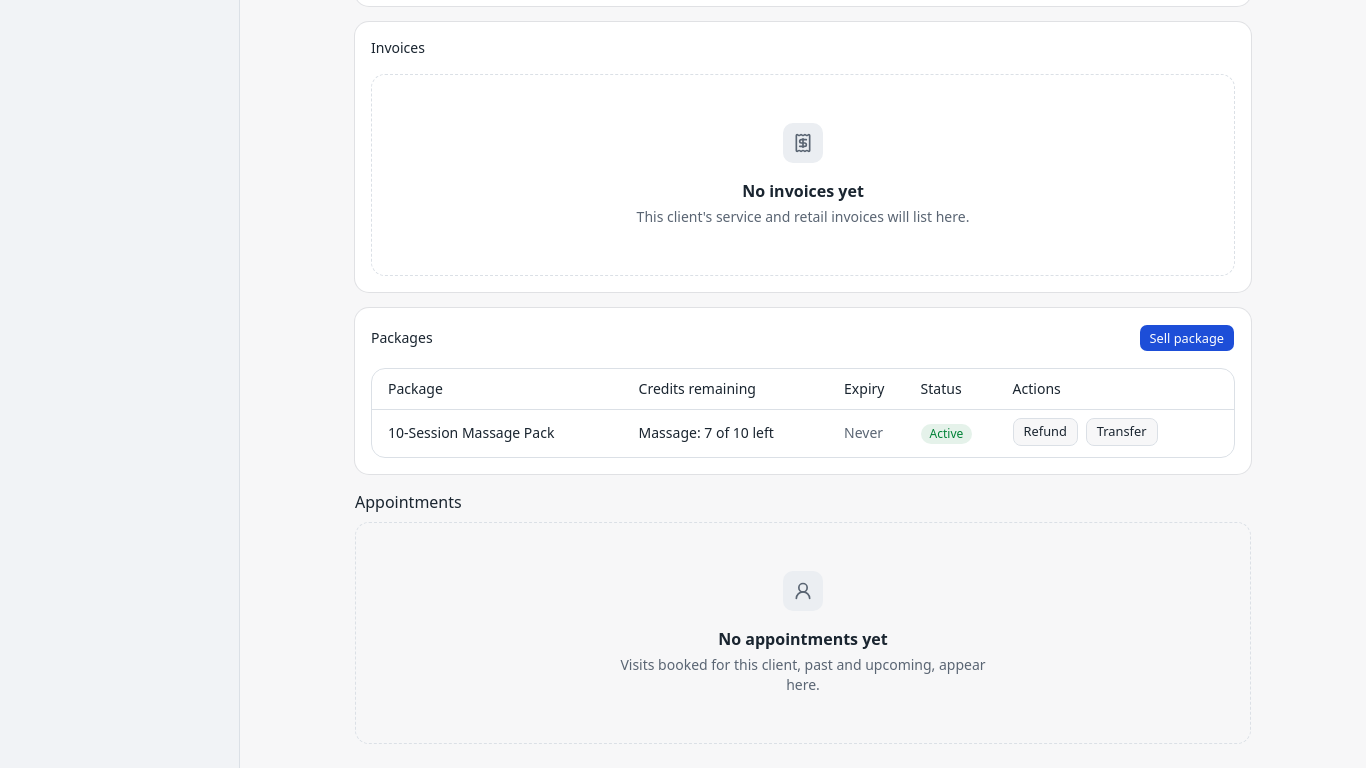
the reason is required before Transfer can submit
(page scrolled)
Check: the table named "Packages" is shown, box [372,369,1234,457]
Click the button "Transfer" at (1122, 432), box [1086,418,1158,446]
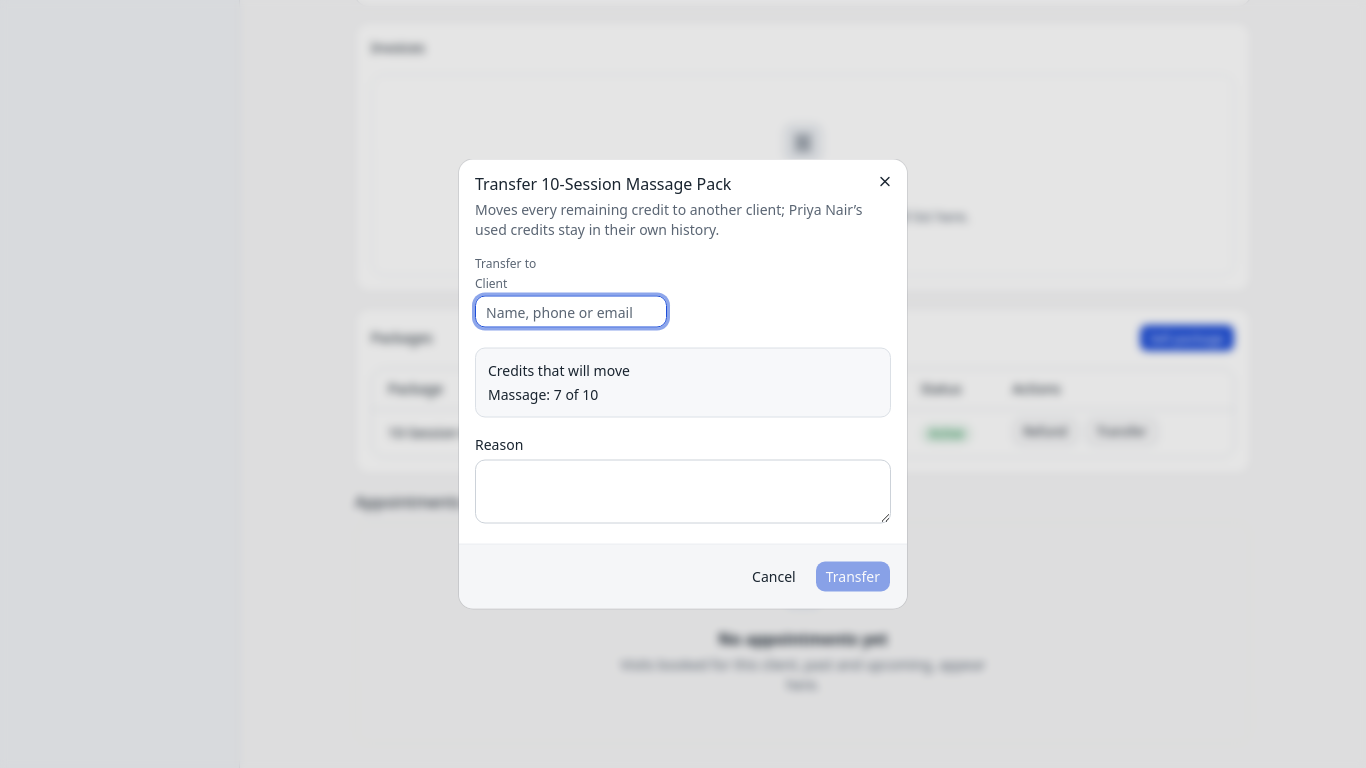
Type "Sam" into the field labelled "Client" at (571, 312), box [475,296,667,328]
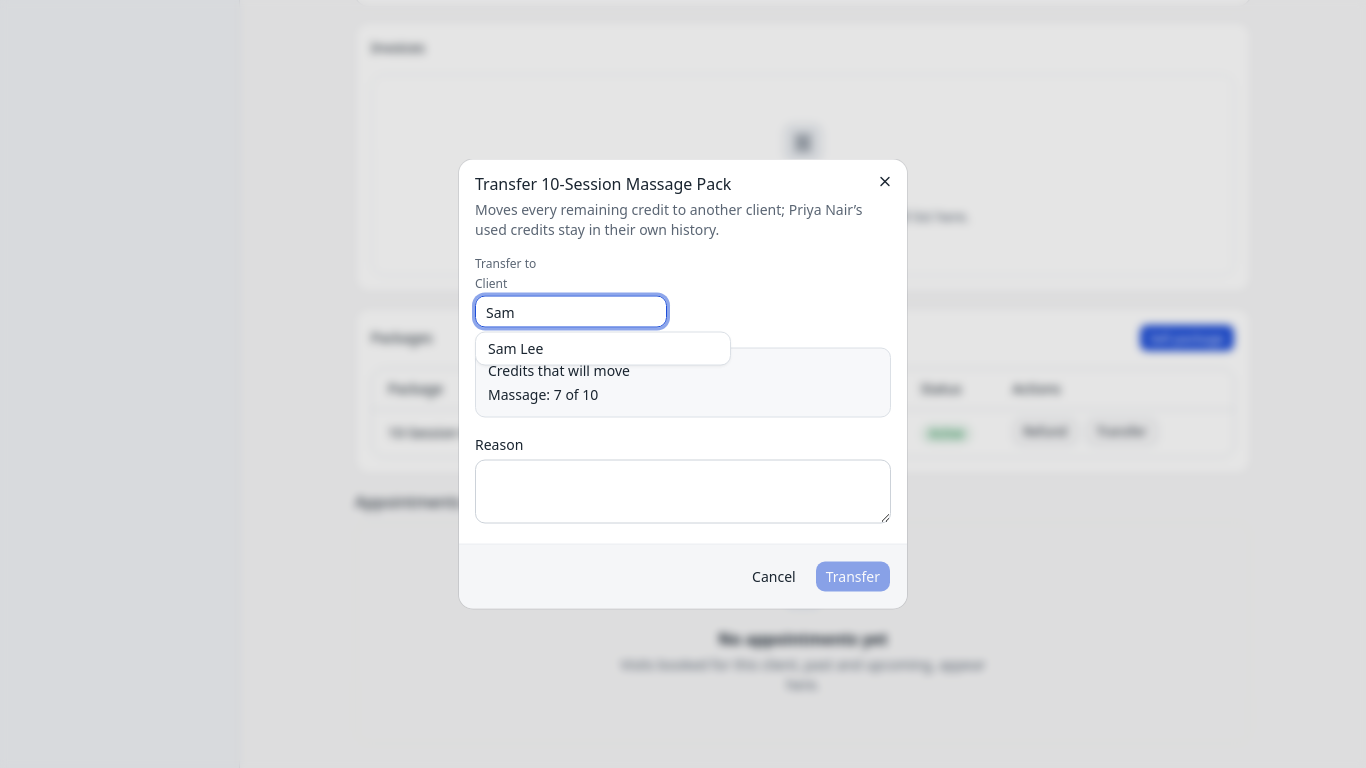
Click the button "Sam Lee" at (603, 348), box [476,332,730,364]
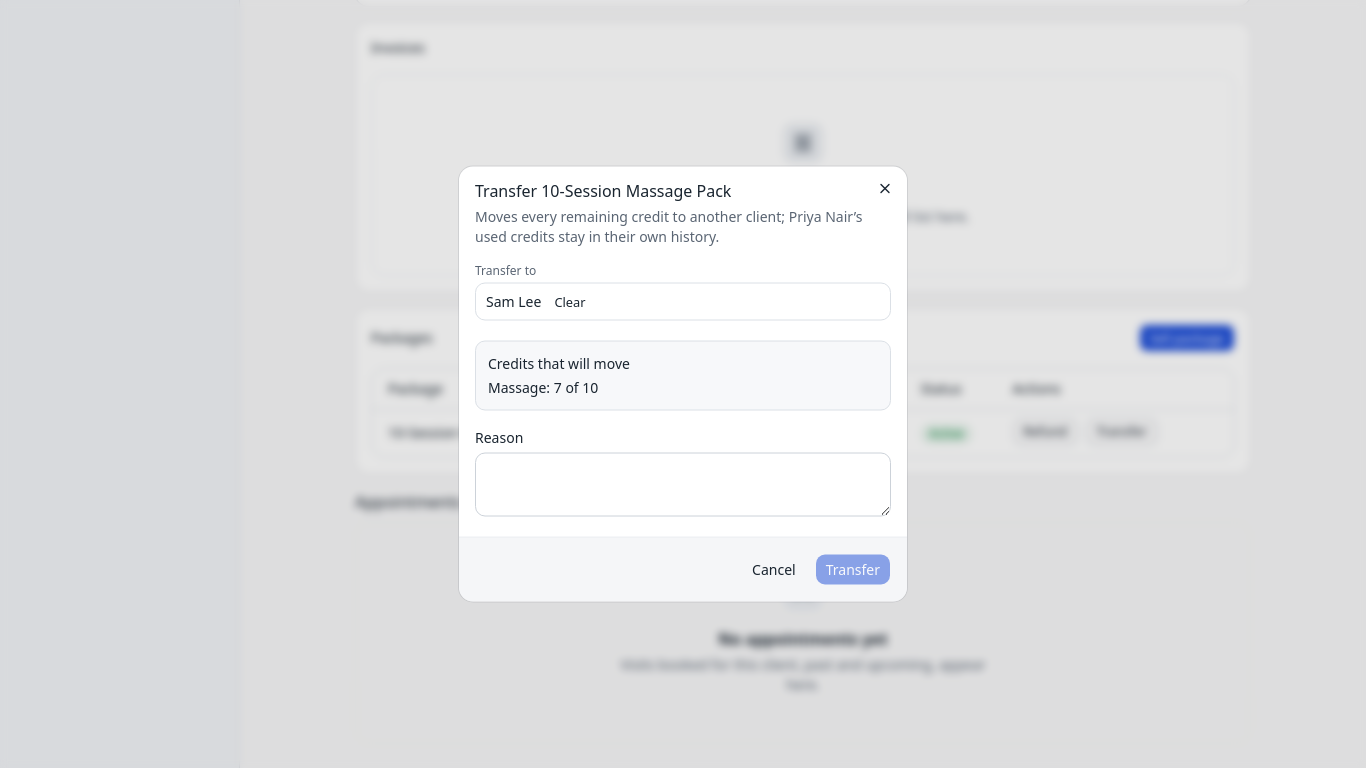
Check: the button "Transfer" is disabled, box [815,554,891,586]
Type "Client moved away" into the text box labelled "Reason" at (683, 484), box [475,452,891,516]
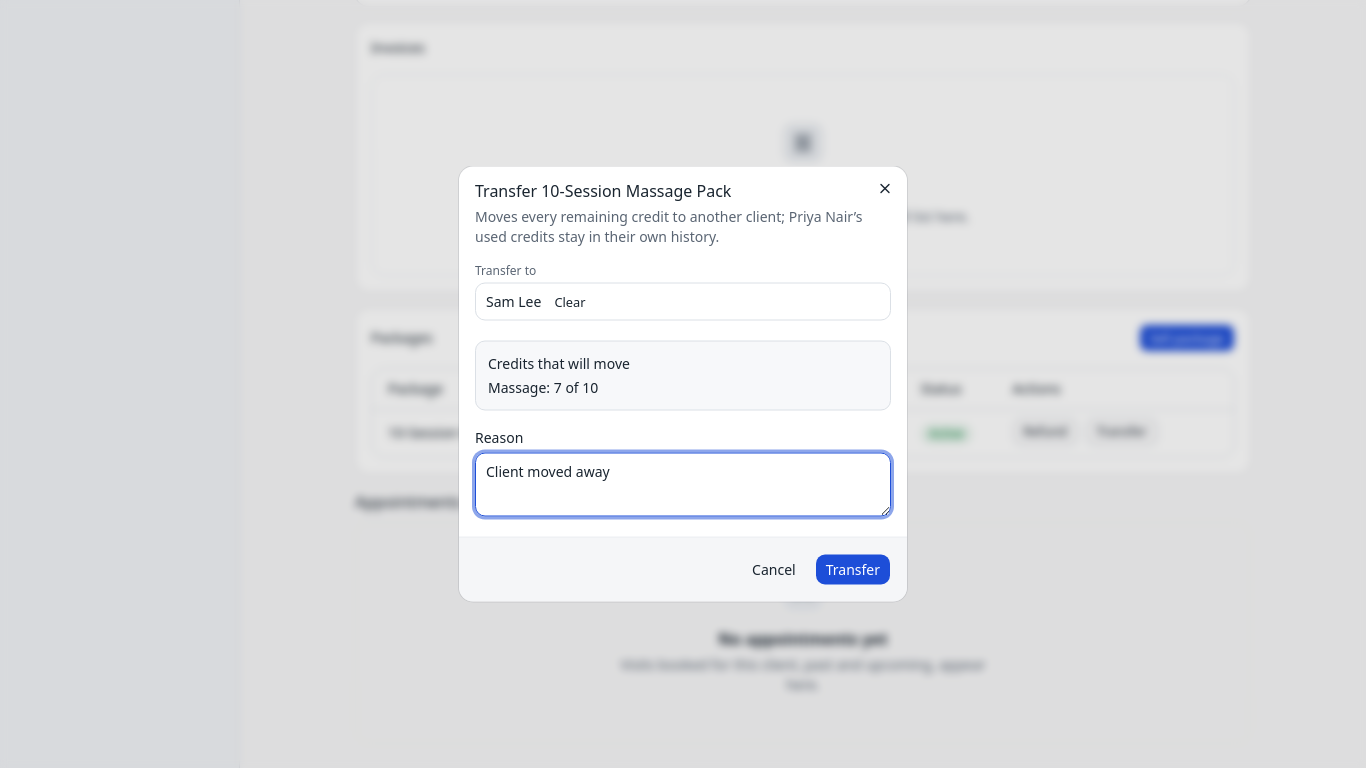
Check: the button "Transfer" is enabled
Click the button "Transfer" at (853, 570), box [815,554,891,586]
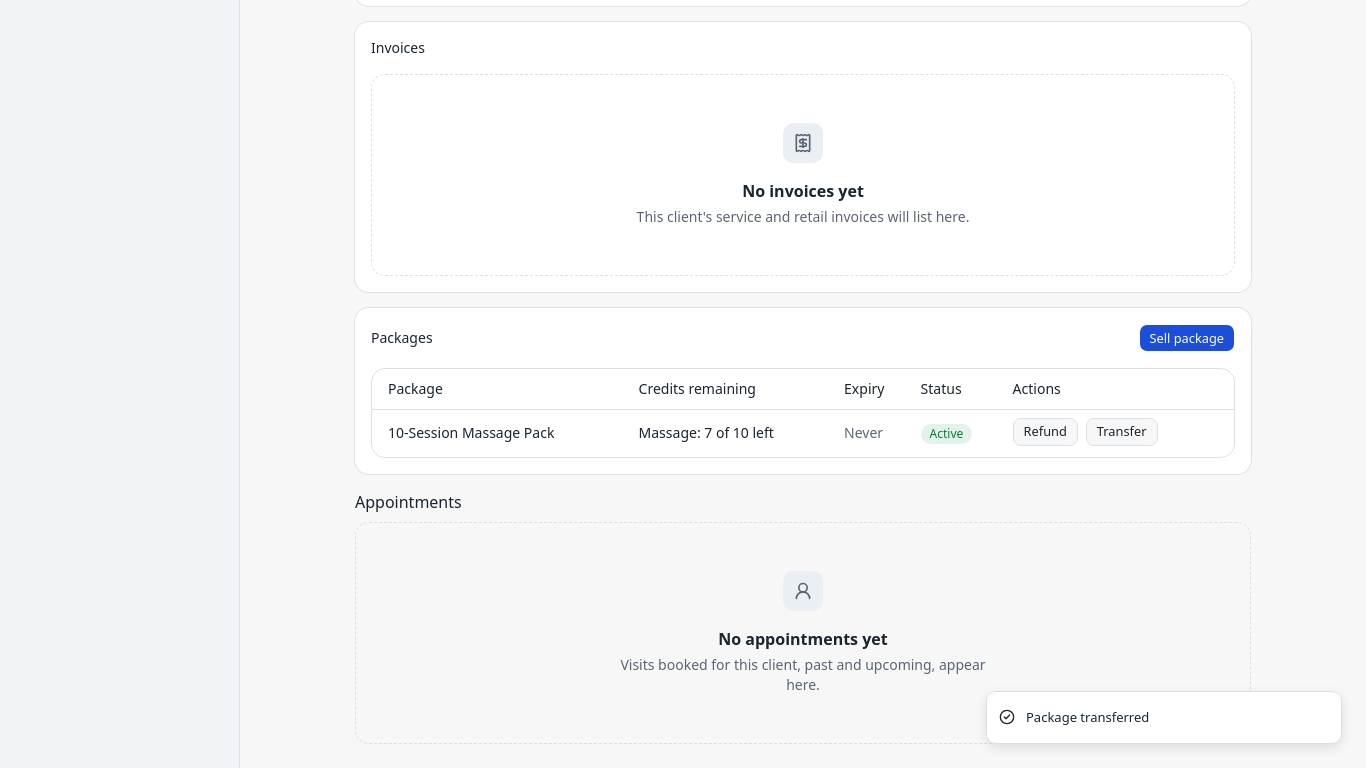
Check: the dialog is gone
